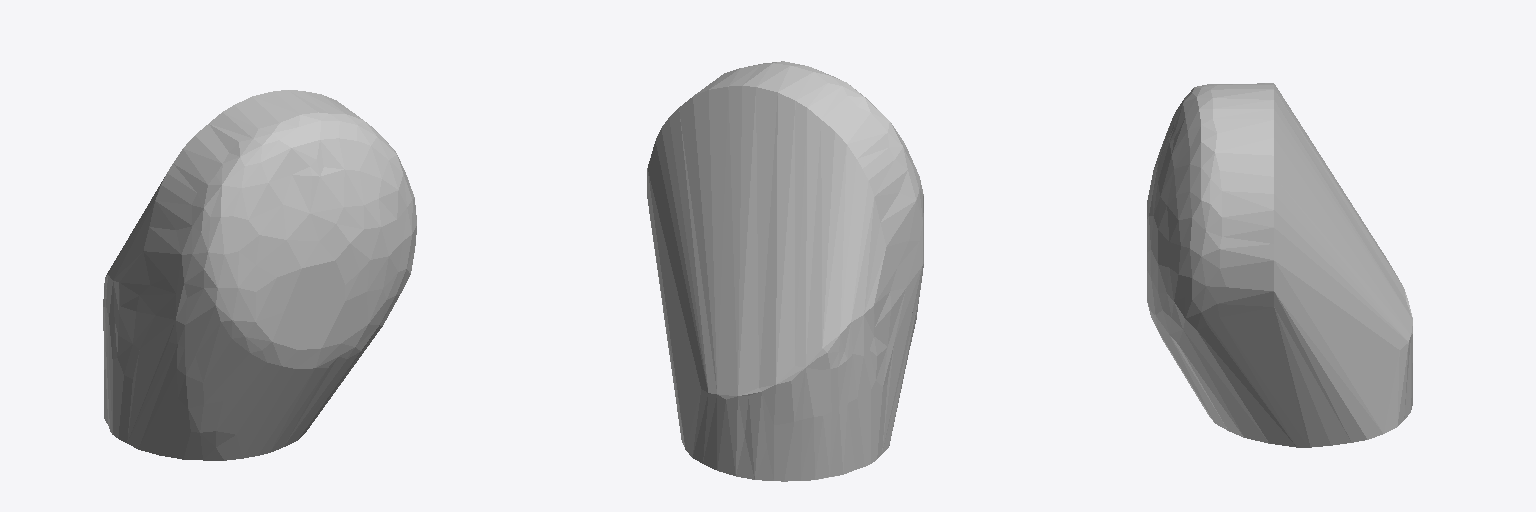
File: arm_4_collision.obj
3 renders of one model, left to right at view 1: azimuth 30°, elevation 25°; view 2: azimuth 150°, elevation 25°; view 3: azimuth 270°, elevation 25°, orthographic.
Bounding box in the file's own units: 0.125 × 0.158 × 0.117.